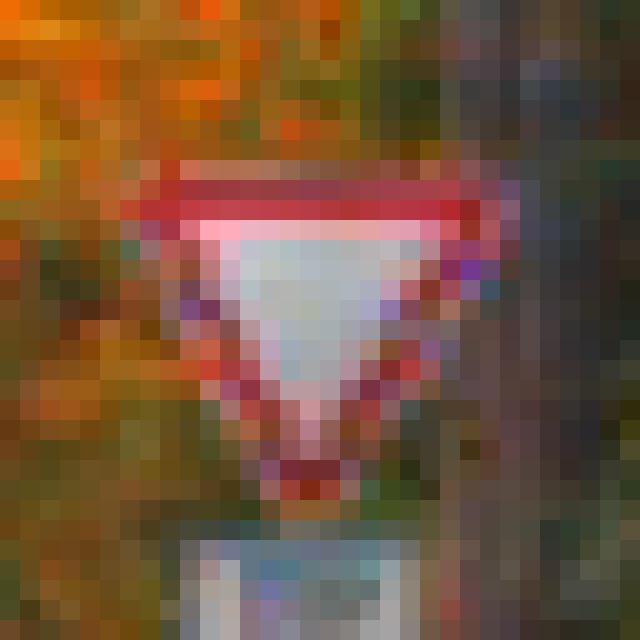Give Way: (121, 121, 541, 541)
